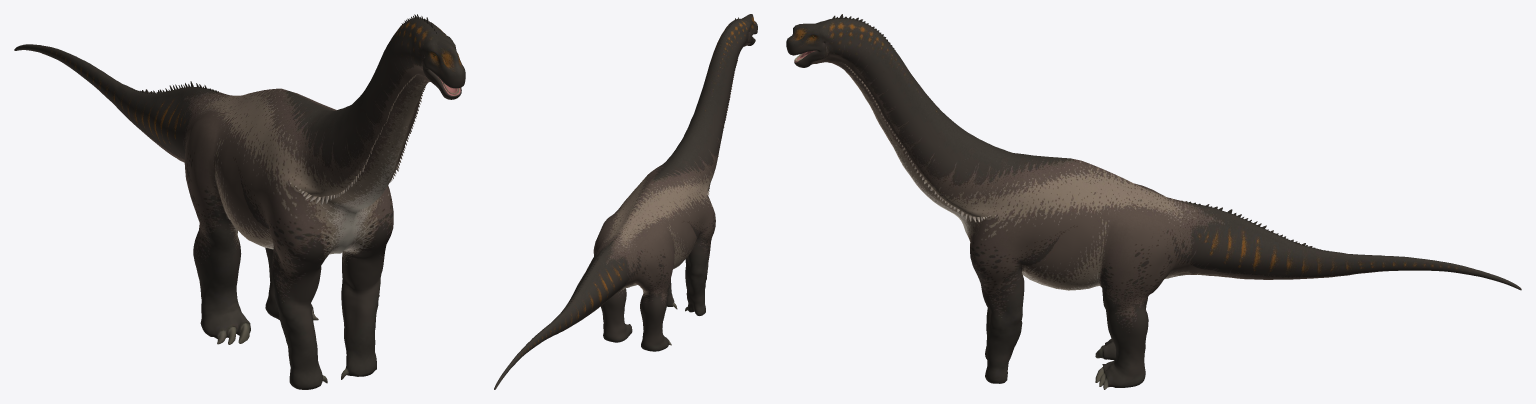
The model's file is Camarasaurio.glb.
The picture shows the model from 3 angles, left to right: view 1: azimuth 30°, elevation 25°; view 2: azimuth 150°, elevation 25°; view 3: azimuth 270°, elevation 25°; orthographic projection. The views are drawn at different scales.
Parts seen in each view (by area): view 1: DW_Camarasaurio_Adulto_Mayor_mesh; view 2: DW_Camarasaurio_Adulto_Mayor_mesh; view 3: DW_Camarasaurio_Adulto_Mayor_mesh.
Boxes of the visible parts, x1,y1,x2,y2 form: DW_Camarasaurio_Adulto_Mayor_mesh: (14, 14, 465, 389); DW_Camarasaurio_Adulto_Mayor_mesh: (494, 14, 757, 389); DW_Camarasaurio_Adulto_Mayor_mesh: (786, 14, 1521, 389).
Size of the model in its own units: 0.1583 by 0.535 by 1.
2 materials, 2 textured.
